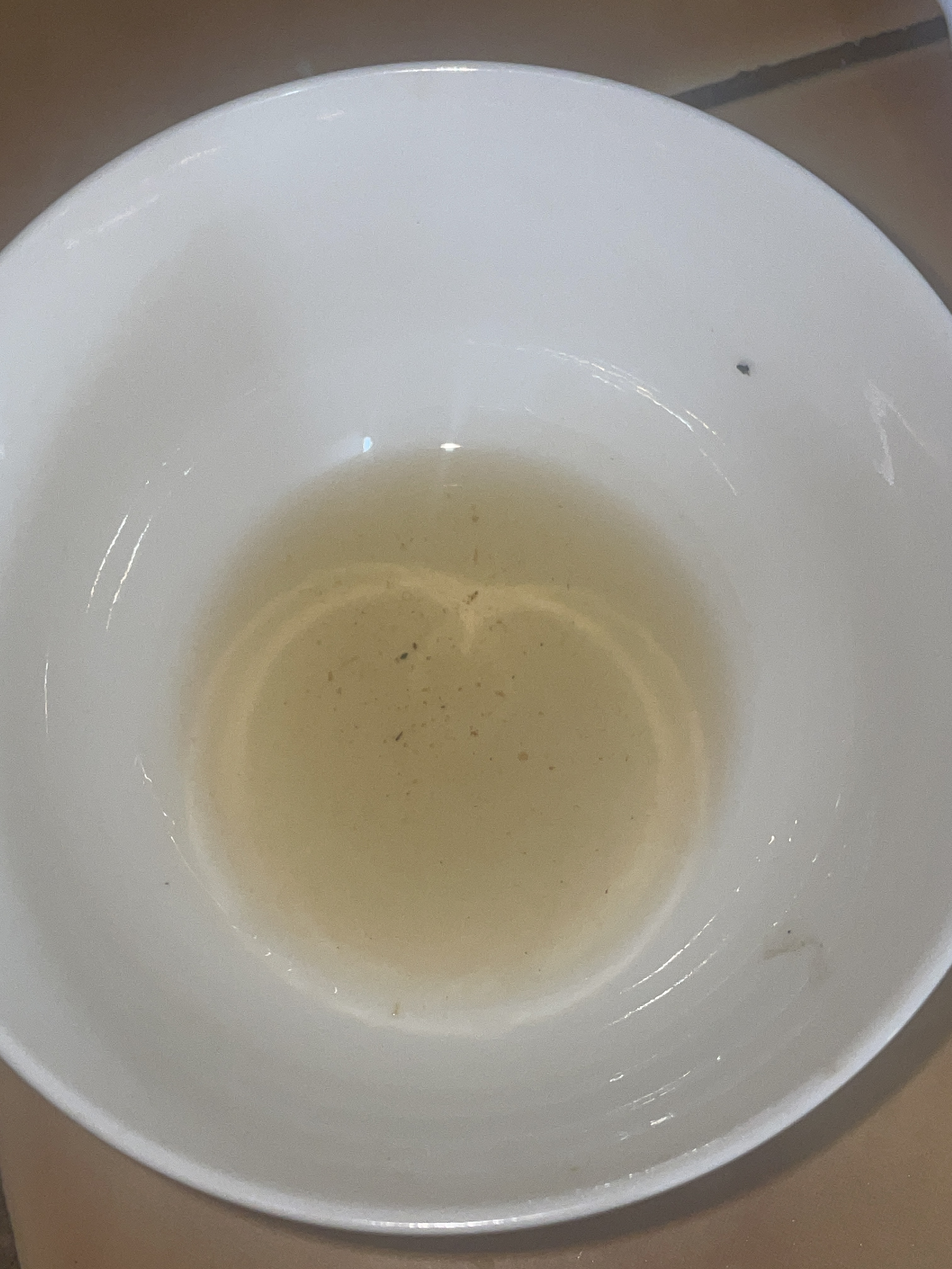reusable: (179, 450, 737, 1001)
